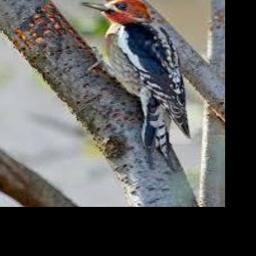Woodpecker: (80, 0, 190, 171)
